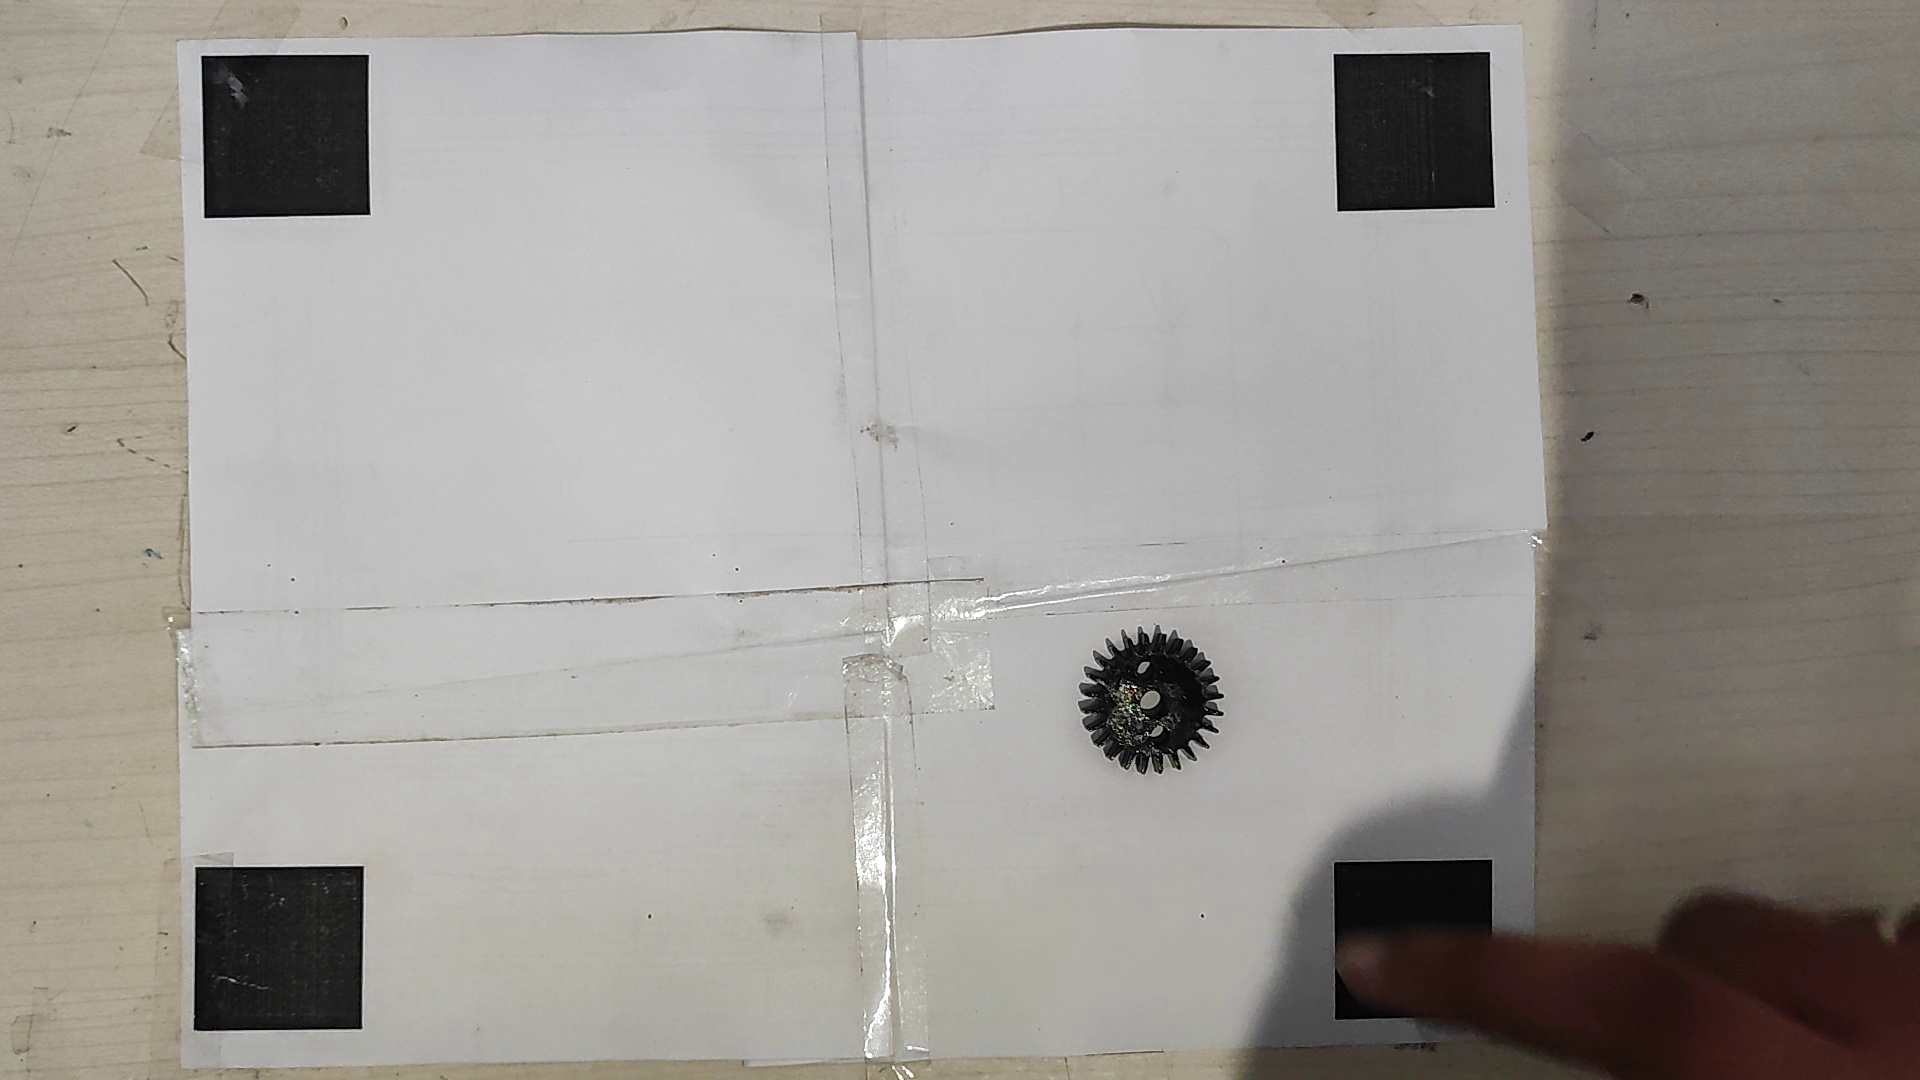Gear: (1074, 622, 1225, 780)
